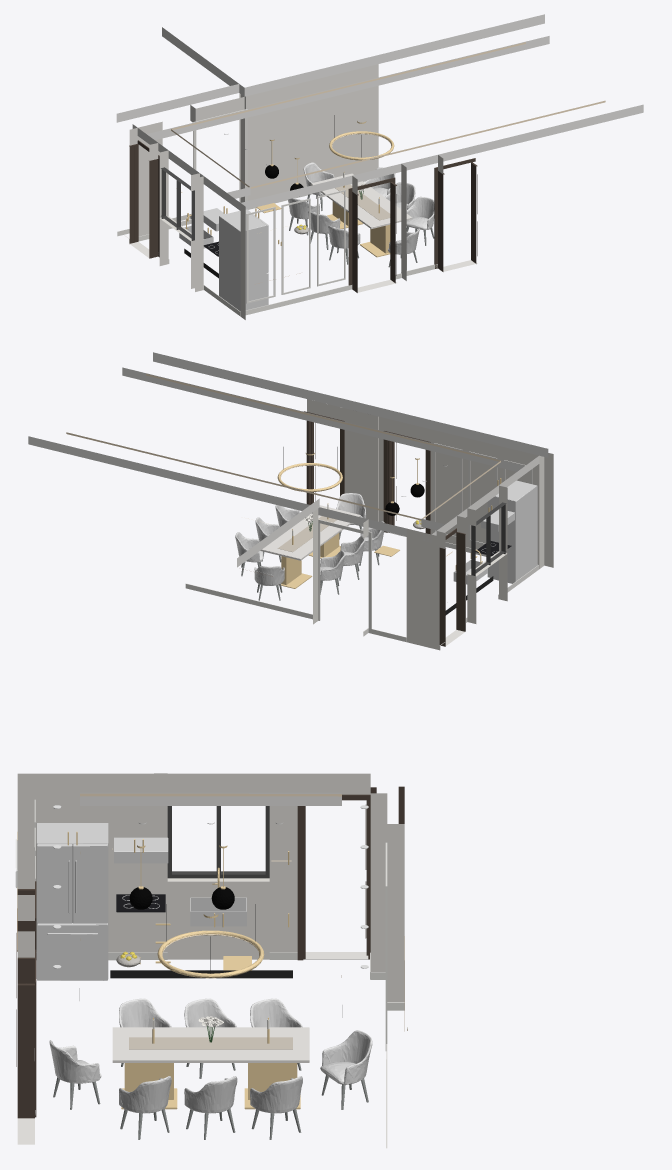
Rendered from KITDIN.glb.
3 renders of one model, top to bottom at view 1: azimuth 30°, elevation 25°; view 2: azimuth 150°, elevation 25°; view 3: azimuth 270°, elevation 25°, orthographic. The views are drawn at different scales.
Visible parts, largest first — view 1: WEB_KITDIN; view 2: WEB_KITDIN; view 3: WEB_KITDIN.
Boxes of the visible parts, <box> form: WEB_KITDIN: <box>116,14,643,319</box>; WEB_KITDIN: <box>28,352,553,650</box>; WEB_KITDIN: <box>15,773,407,1148</box>.
Bounding box in the file's own units: 12.09 × 2.7 × 7.84.
